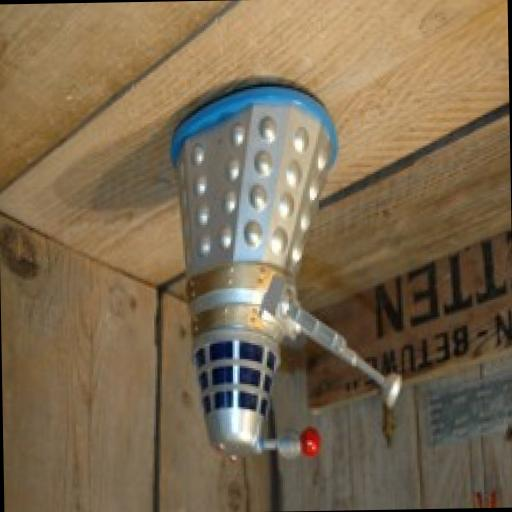dalek: (156, 88, 410, 466)
